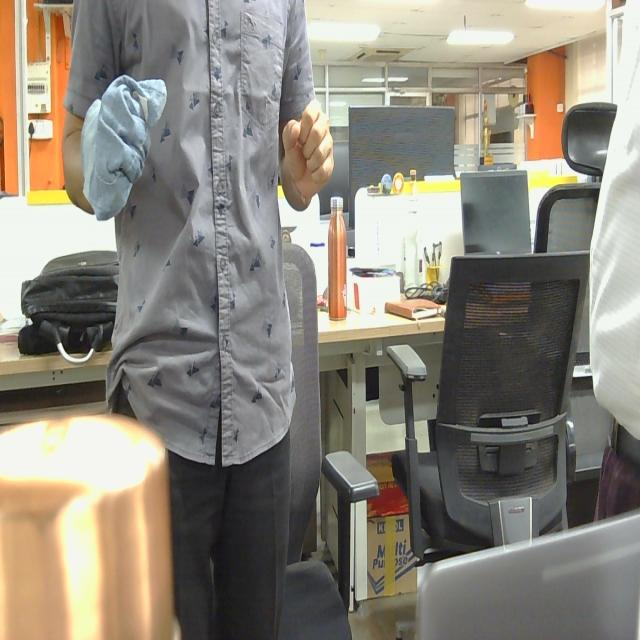Gloves-Detection: (83, 70, 168, 224)
